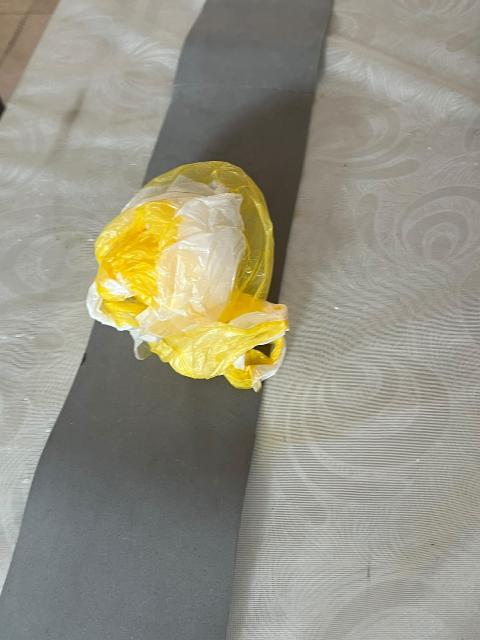LDPE: (49, 122, 409, 496)
